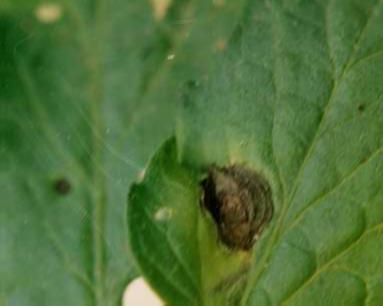Tomato leaf late blight: (87, 0, 383, 306)
